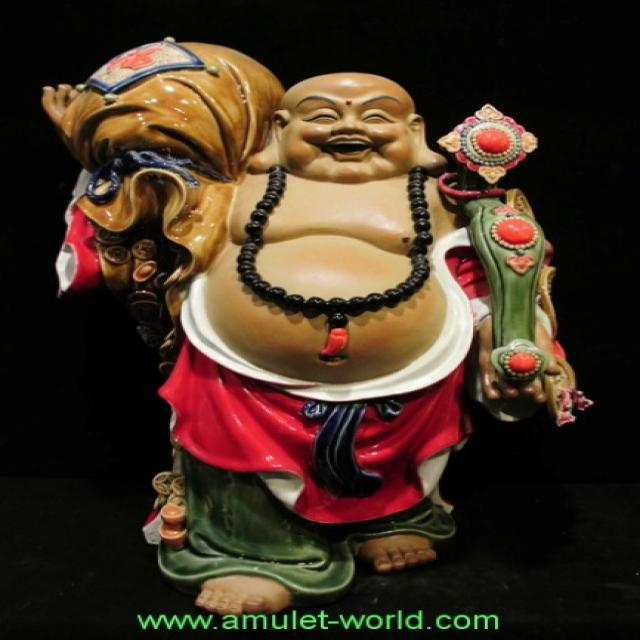Smiling Buddha: (171, 63, 500, 423)
